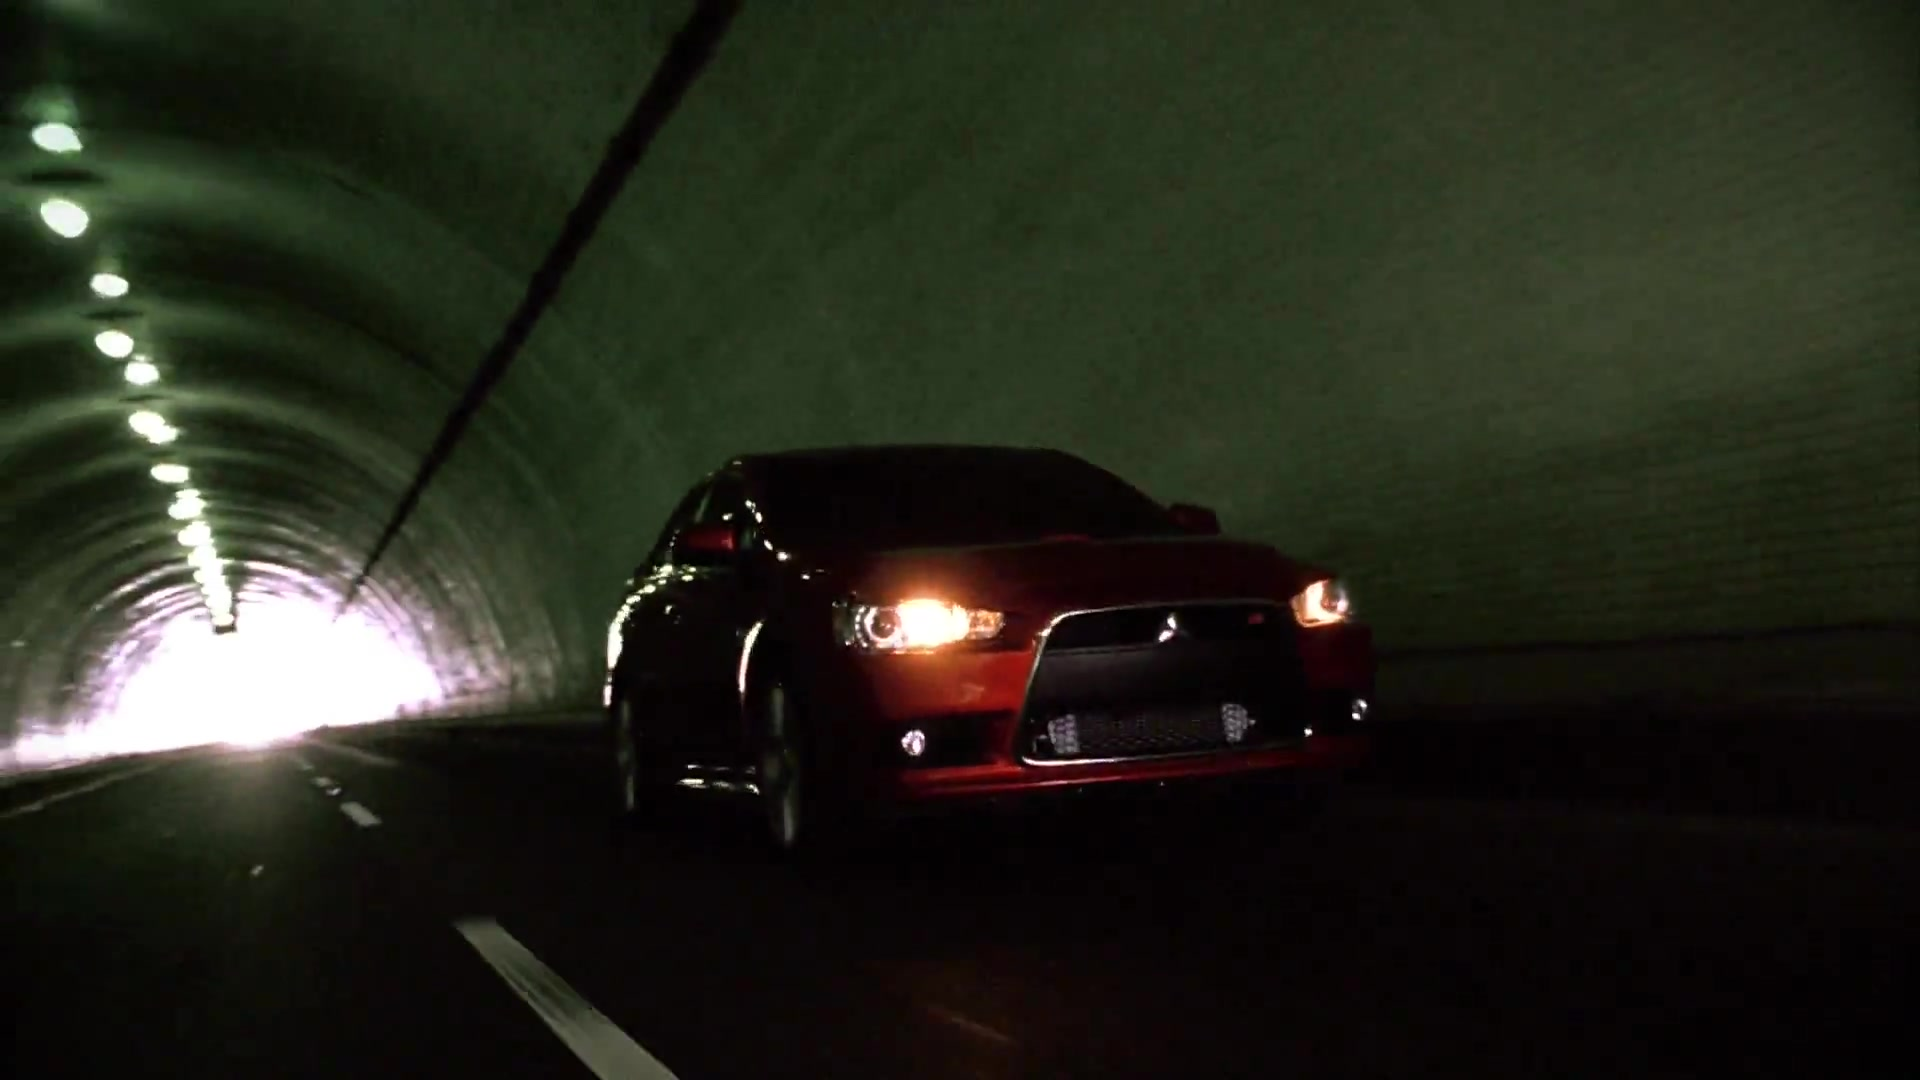car: (603, 446, 1398, 878)
